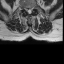CCS_normal: (28, 7, 30, 15)
LFS_normal: (32, 5, 34, 11)
LLS_normal: (30, 5, 32, 13)
RFS_stenosis: (23, 5, 26, 12)
RLS_normal: (25, 6, 28, 13)
